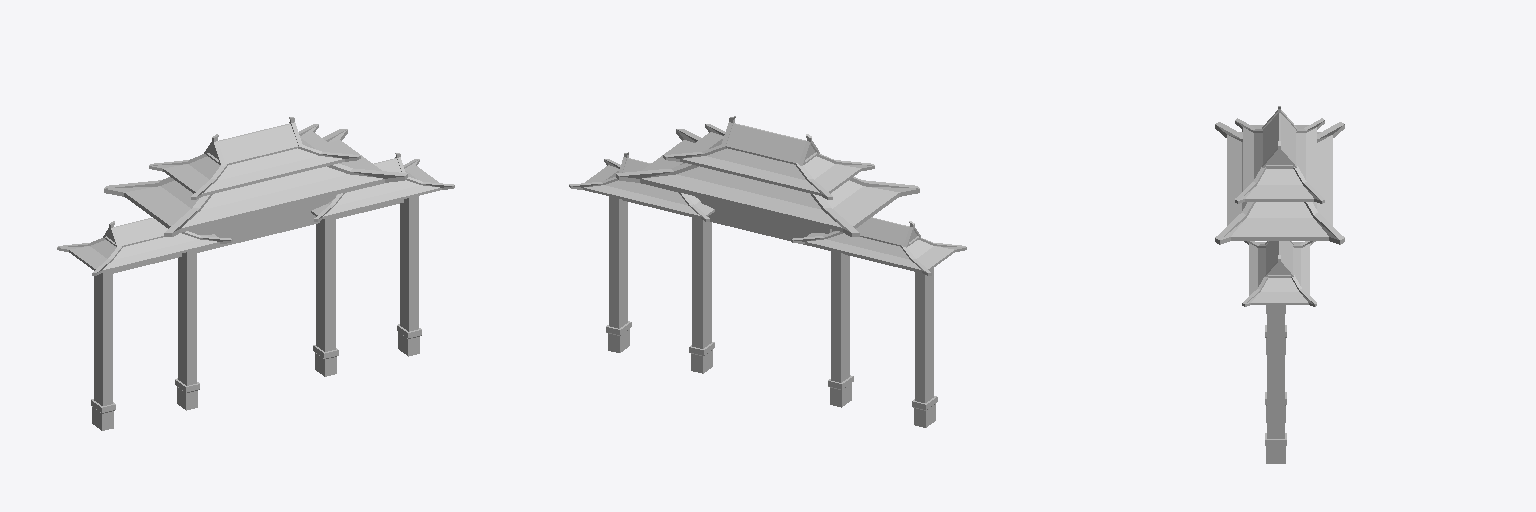
The model's file is door.obj.
The picture shows the model from 3 angles: view 1: azimuth 30°, elevation 25°; view 2: azimuth 150°, elevation 25°; view 3: azimuth 270°, elevation 25°; orthographic projection.
Parts seen in each view (by area): view 1: Object097; view 2: Object097; view 3: Object097.
Boxes of the visible parts, box(x1,y1,x2,y2) form: Object097: box(57, 117, 454, 430); Object097: box(569, 116, 966, 427); Object097: box(1215, 106, 1344, 463).
Bounding box in the file's own units: 17.49 × 12.05 × 5.41.